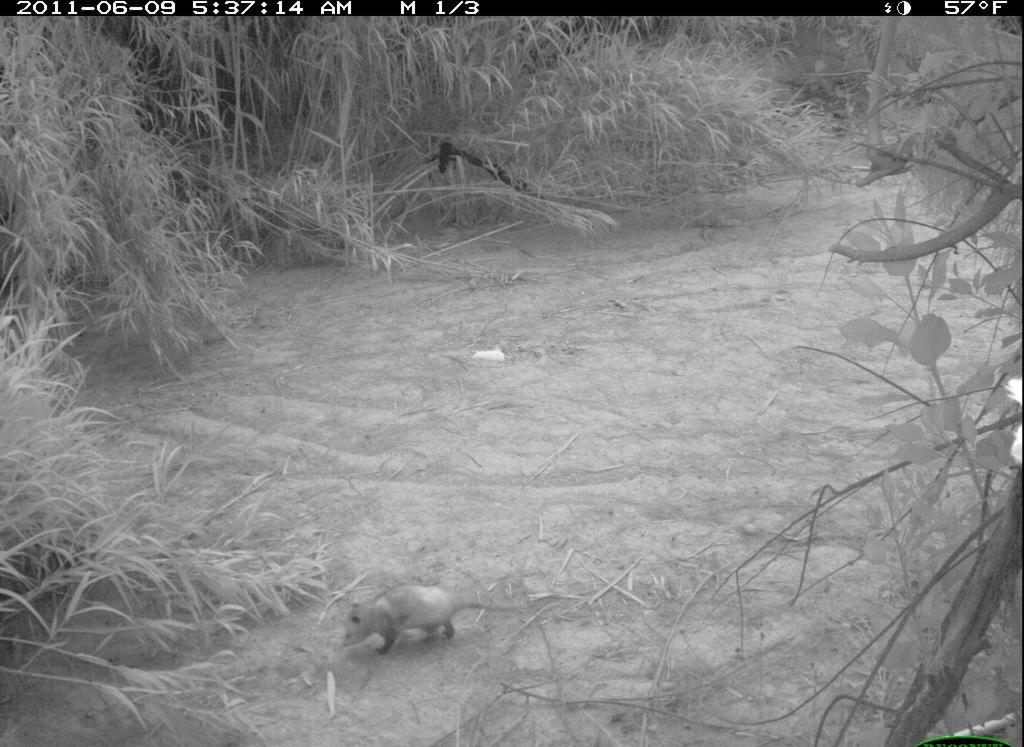opossum: (335, 579, 547, 669)
